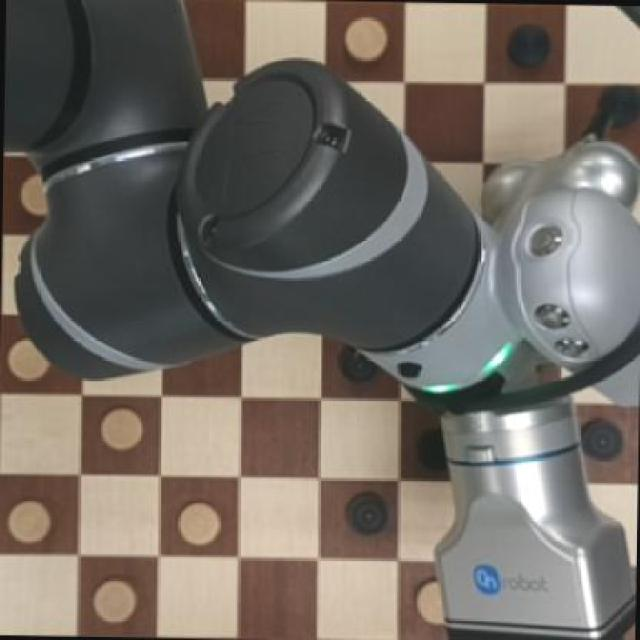black: (339, 484, 391, 548), (499, 15, 558, 66), (576, 407, 620, 465)
white: (90, 566, 146, 630), (94, 400, 147, 462), (0, 499, 61, 550), (336, 12, 395, 62), (1, 333, 52, 385), (175, 499, 227, 546)
